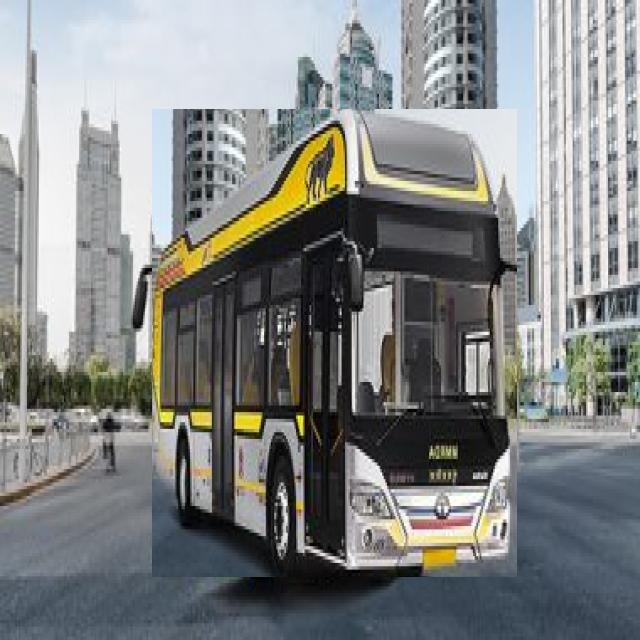bus: (153, 110, 517, 577)
